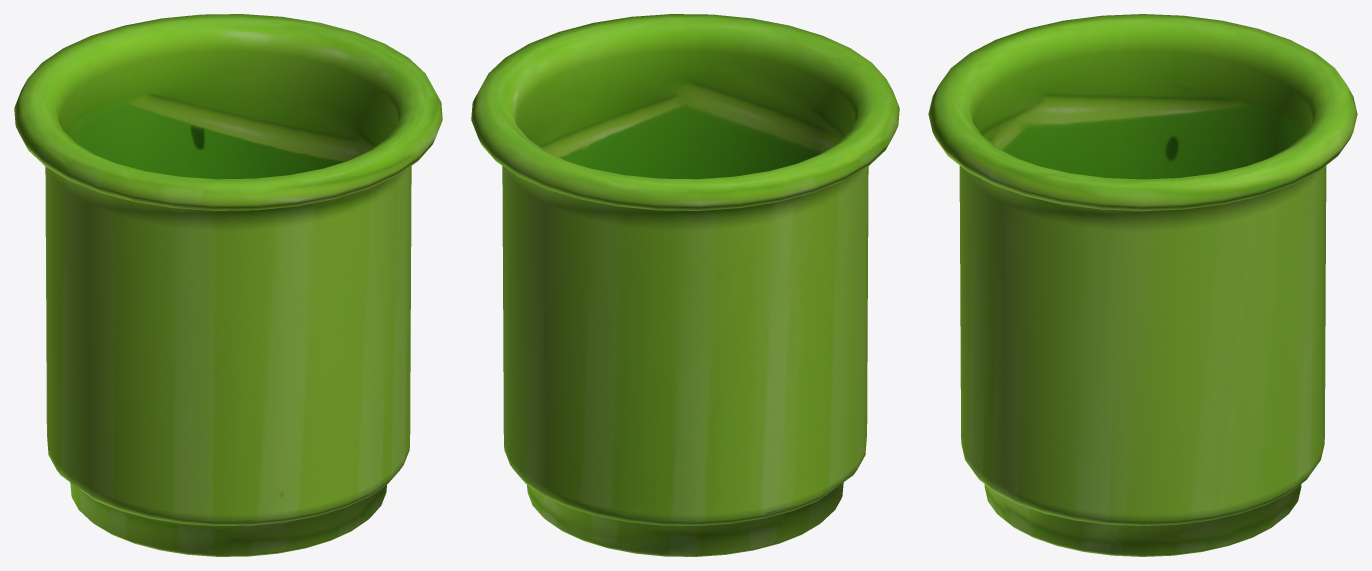
Rendered from 065-c_cups.dae.
3 renders of one model, left to right at view 1: azimuth 30°, elevation 25°; view 2: azimuth 150°, elevation 25°; view 3: azimuth 270°, elevation 25°, orthographic.
Visible parts, largest first — view 1: 065-c_cups; view 2: 065-c_cups; view 3: 065-c_cups.
Boxes of the visible parts, x1,y1,x2,y2 form: 065-c_cups: [14, 14, 442, 556]; 065-c_cups: [471, 14, 899, 556]; 065-c_cups: [928, 14, 1357, 556].
Bounding box in the file's own units: 0.0657 × 0.0657 × 0.0663.
1 material, 1 textured.
